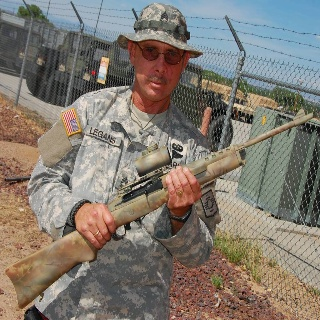rifle: (5, 103, 317, 310)
